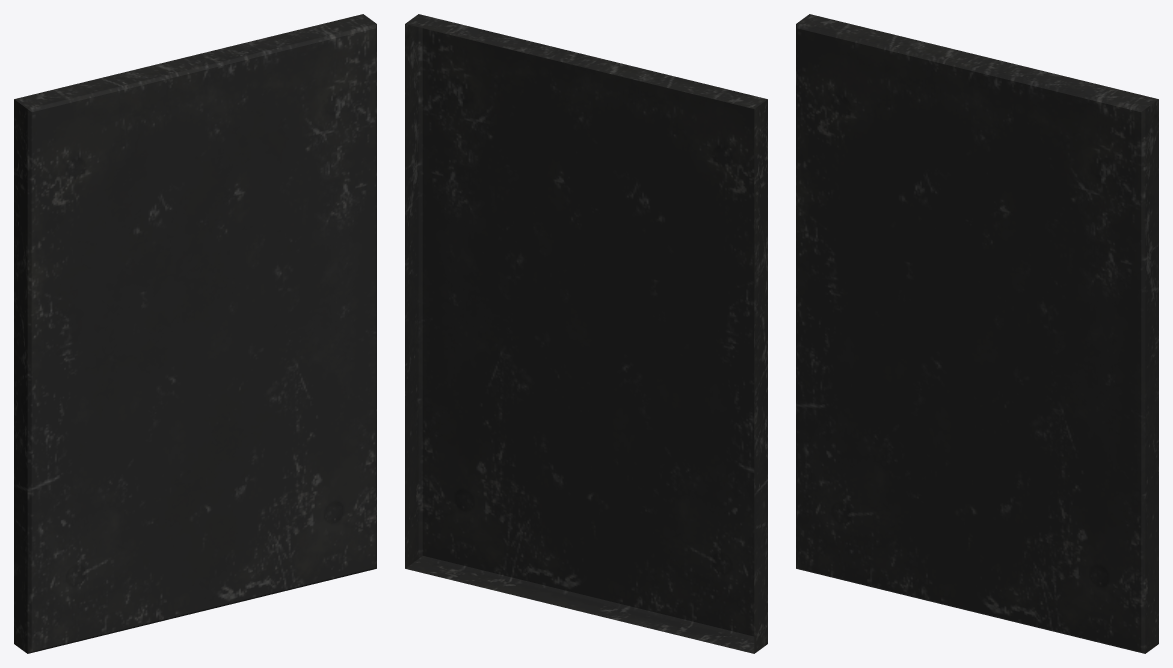
Rendered from Push Handle.FBX.
The picture shows the model from 3 angles, left to right: view 1: azimuth 30°, elevation 25°; view 2: azimuth 150°, elevation 25°; view 3: azimuth 330°, elevation 25°; orthographic projection.
Visible parts, largest first — view 1: Push Handle; view 2: Push Handle; view 3: Push Handle.
Boxes of the visible parts, <box> form: Push Handle: <box>14,14,376,653</box>; Push Handle: <box>405,14,767,653</box>; Push Handle: <box>796,14,1158,653</box>.
Size of the model in its own units: 1.34 by 0.1 by 2.
